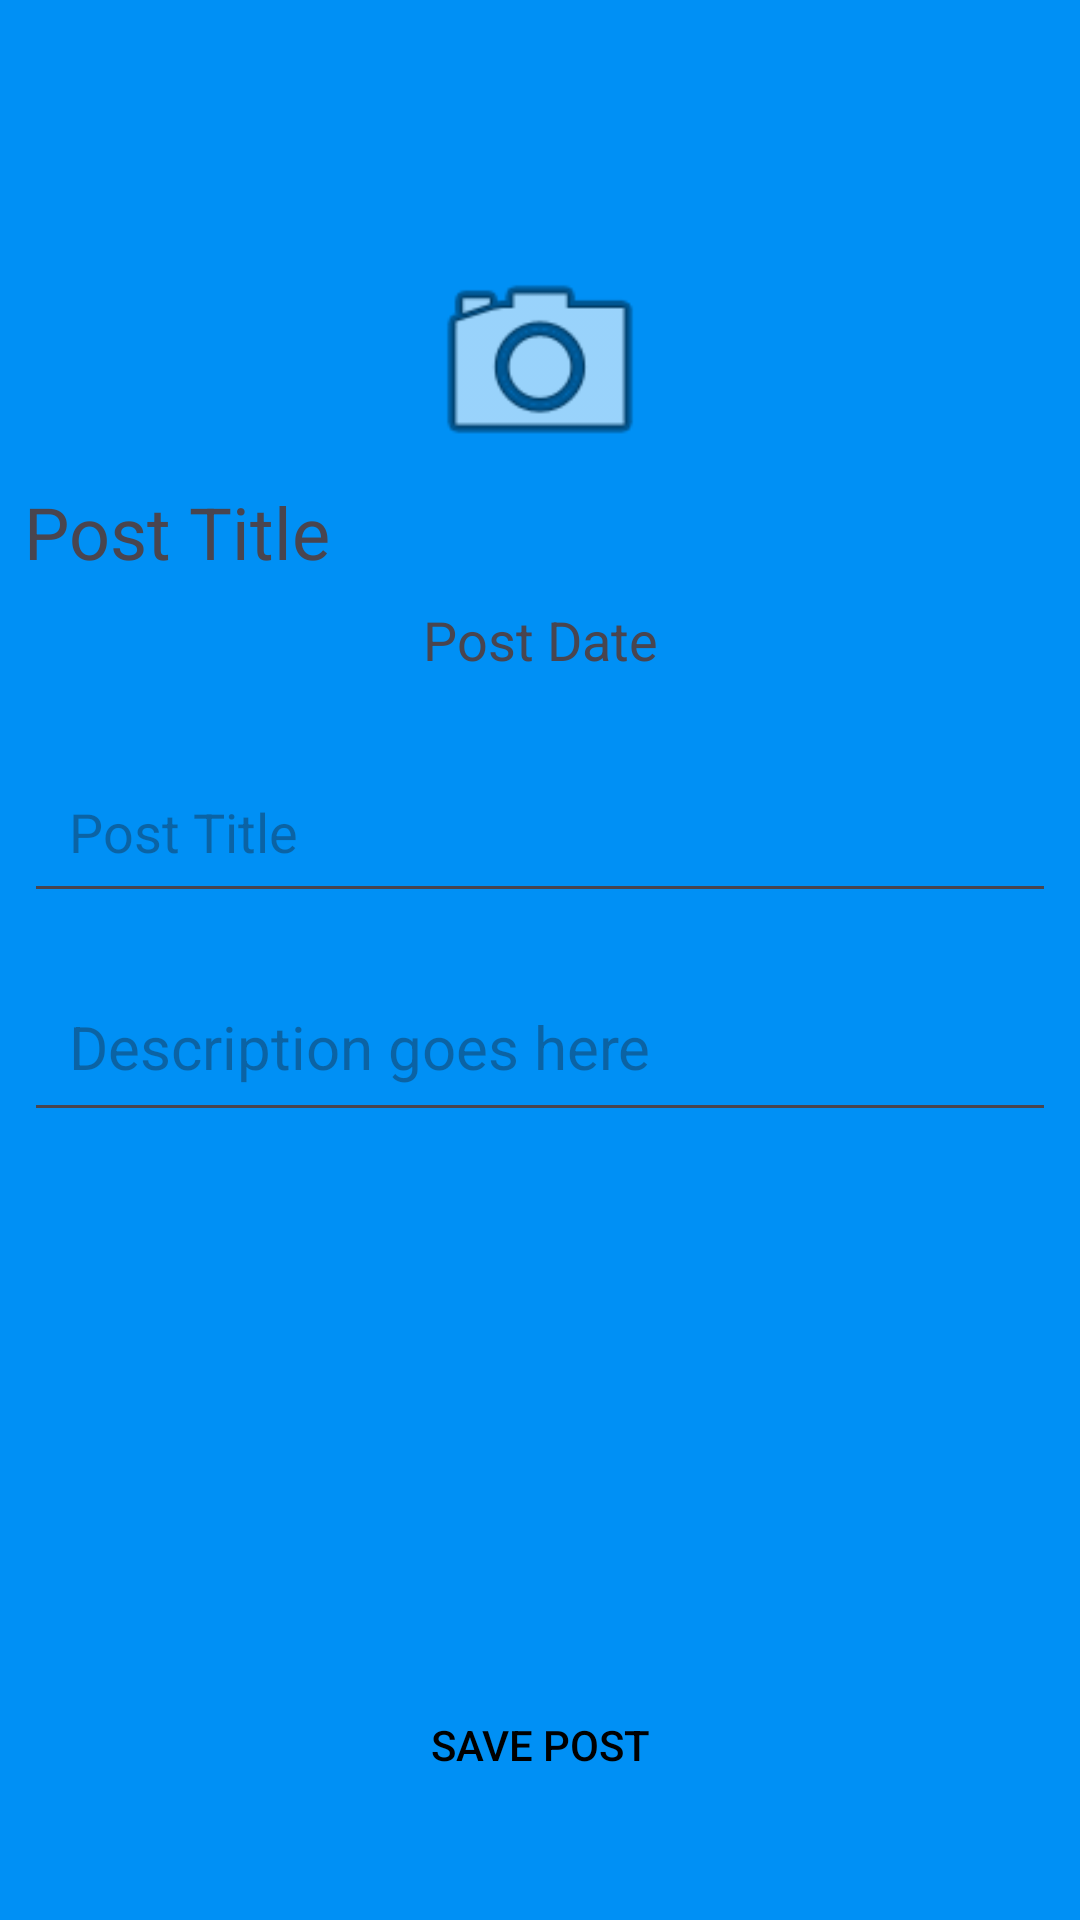

Locate icon controls on the screen. Image size 1080px x 1920px, boxes as (x1, y1, x2, y2).
camera: (447, 285, 633, 433)
